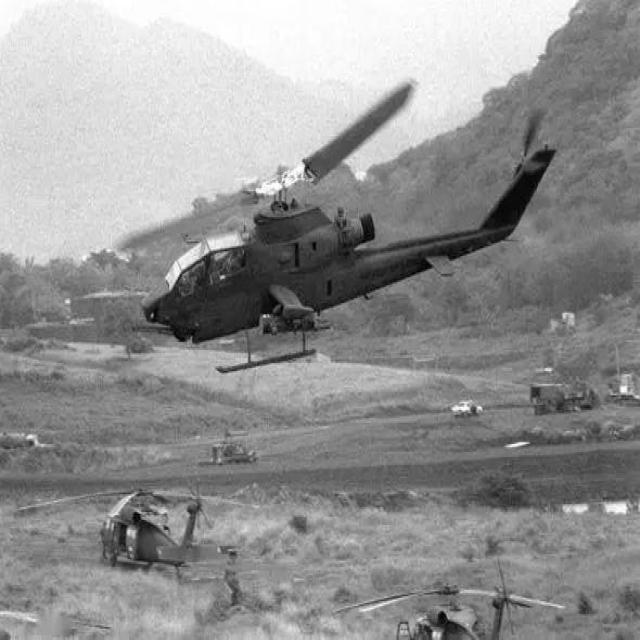MIL_HELO: (125, 79, 560, 375), (17, 487, 264, 580)
